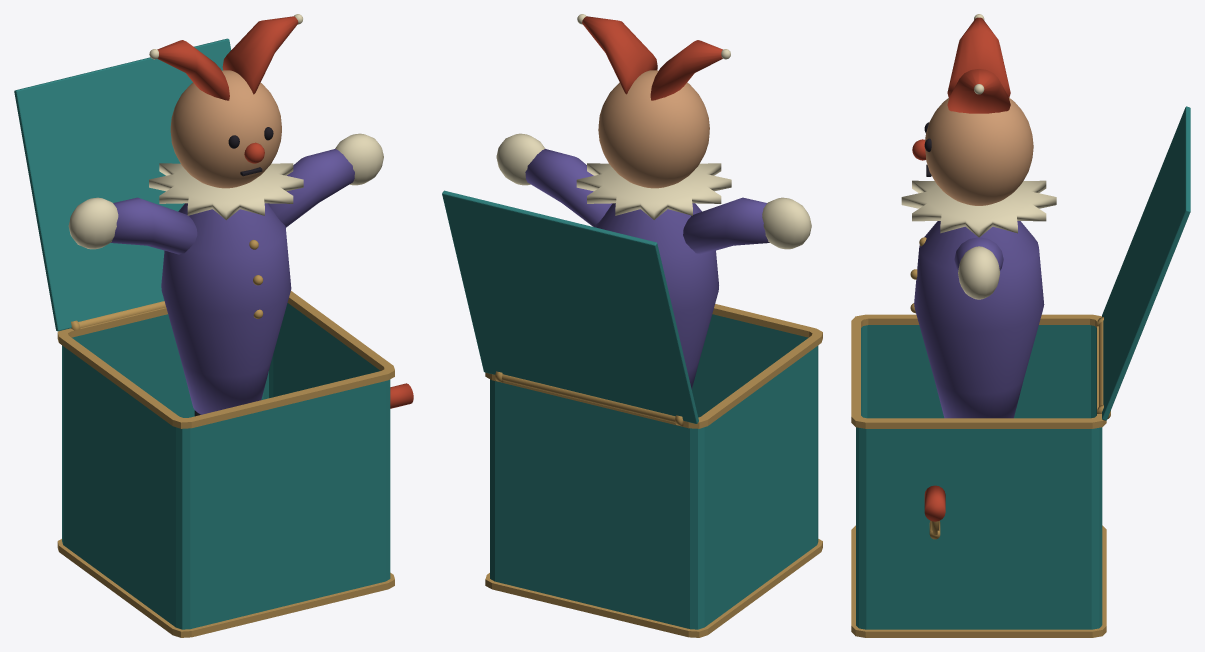
The model's file is full.glb.
The picture shows the model from 3 angles, left to right: view 1: azimuth 30°, elevation 25°; view 2: azimuth 150°, elevation 25°; view 3: azimuth 270°, elevation 25°; orthographic projection.
Parts seen in each view (by area): view 1: Open thin metal box, Open square hinged lid, Loose tapering cloth torso, Rounded puppet head, Upper rolled box rim, Pointed pleated neck ruff, Left raised cloth arm, Lower rolled box rim, Right raised cloth arm, Right two point hat horn, Left two point hat horn, Left mitten hand (+2 smaller); view 2: Open thin metal box, Open square hinged lid, Rounded puppet head, Loose tapering cloth torso, Pointed pleated neck ruff, Upper rolled box rim, Left raised cloth arm, Lower rolled box rim, Right raised cloth arm, Right two point hat horn, Left two point hat horn, Left mitten hand (+2 smaller); view 3: Open thin metal box, Loose tapering cloth torso, Open square hinged lid, Rounded puppet head, Upper rolled box rim, Pointed pleated neck ruff, Lower rolled box rim, Left two point hat horn, Right two point hat horn, Right mitten hand, Crank rounded grip, Right raised cloth arm.
Part boxes in pixels (x1,y1,x2,y2): Open thin metal box: (62, 303, 390, 629); Open square hinged lid: (14, 38, 230, 331); Loose tapering cloth torso: (161, 203, 291, 414); Rounded puppet head: (170, 70, 281, 188); Upper rolled box rim: (57, 291, 394, 428); Pointed pleated neck ruff: (149, 163, 303, 220); Left raised cloth arm: (110, 197, 197, 254); Lower rolled box rim: (57, 539, 394, 637); Right raised cloth arm: (268, 149, 354, 227); Right two point hat horn: (222, 16, 298, 94); Left two point hat horn: (157, 40, 229, 100); Left mitten hand: (68, 197, 118, 249); Open thin metal box: (490, 314, 818, 629); Open square hinged lid: (442, 190, 698, 423); Rounded puppet head: (598, 70, 709, 188); Loose tapering cloth torso: (595, 203, 718, 389); Pointed pleated neck ruff: (576, 163, 731, 219); Upper rolled box rim: (485, 304, 822, 428); Left raised cloth arm: (683, 197, 769, 254); Lower rolled box rim: (485, 539, 822, 637); Right raised cloth arm: (525, 149, 612, 227); Right two point hat horn: (582, 16, 657, 94); Left two point hat horn: (650, 40, 722, 100); Left mitten hand: (762, 197, 811, 249); Open thin metal box: (856, 325, 1102, 629); Loose tapering cloth torso: (914, 221, 1044, 418); Open square hinged lid: (1102, 106, 1190, 420); Rounded puppet head: (925, 98, 1033, 205); Upper rolled box rim: (851, 314, 1106, 428); Pointed pleated neck ruff: (901, 180, 1056, 237); Lower rolled box rim: (851, 525, 1106, 637); Left two point hat horn: (947, 17, 1010, 97); Right two point hat horn: (947, 69, 1010, 113); Right mitten hand: (958, 246, 999, 299); Crank rounded grip: (924, 485, 945, 521); Right raised cloth arm: (954, 237, 1003, 270).
Size of the model in its own units: 0.207 by 0.336 by 0.1926.
